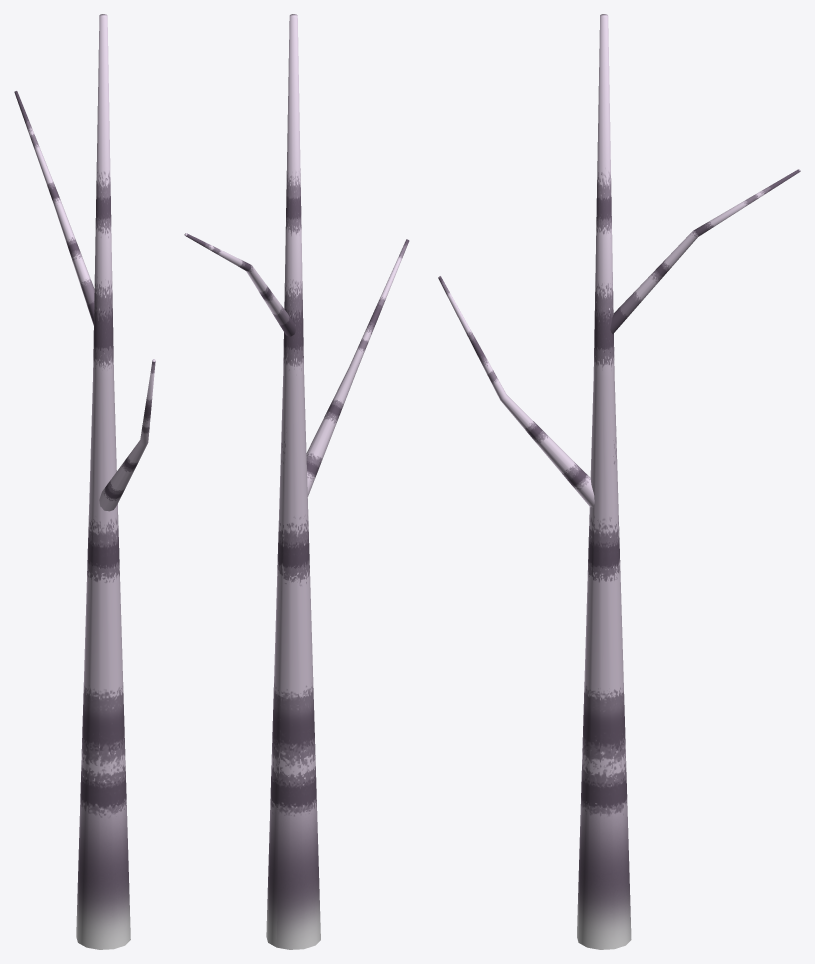
The model's file is Birch.fbx.
3 renders of one model, left to right at view 1: azimuth 30°, elevation 25°; view 2: azimuth 150°, elevation 25°; view 3: azimuth 270°, elevation 25°, orthographic.
Parts seen in each view (by area): view 1: Cylinder.006; view 2: Cylinder.006; view 3: Cylinder.006.
Boxes of the visible parts, left/top/right/bottom form: Cylinder.006: left=14, top=14, right=155, bottom=949; Cylinder.006: left=184, top=14, right=409, bottom=949; Cylinder.006: left=438, top=14, right=800, bottom=949.
Size of the model in its own units: 51.28 by 793 by 283.
